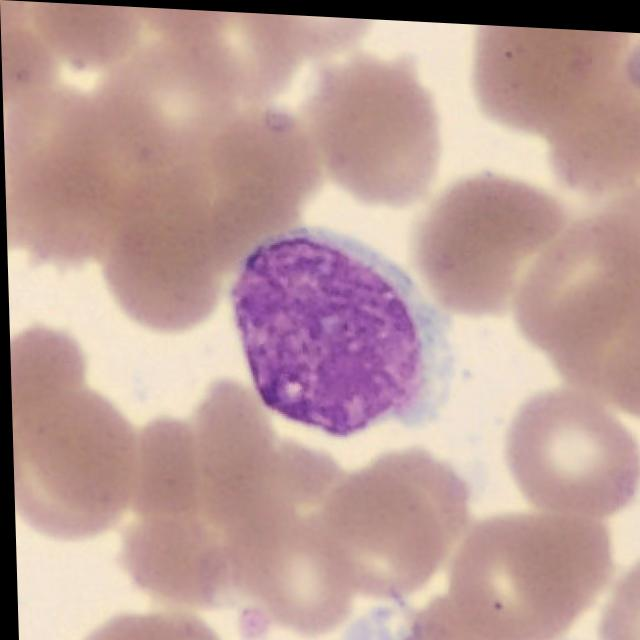Linfocito: (230, 221, 454, 433)
